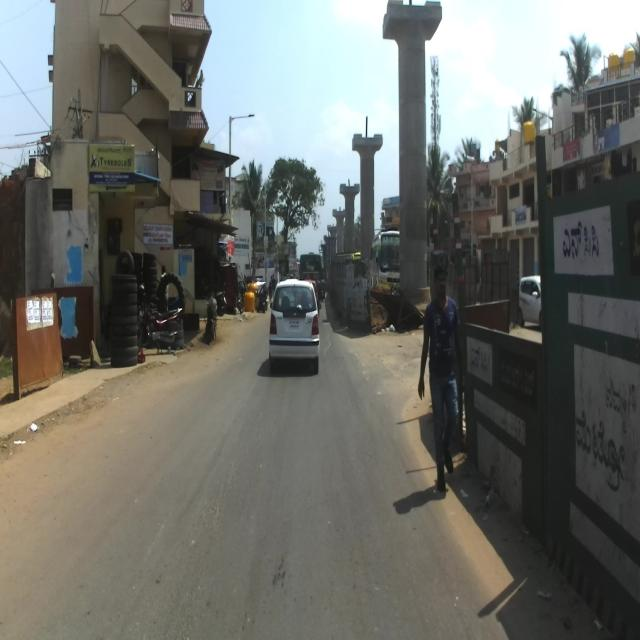car: (269, 280, 320, 372)
motorcycle: (136, 283, 182, 353)
